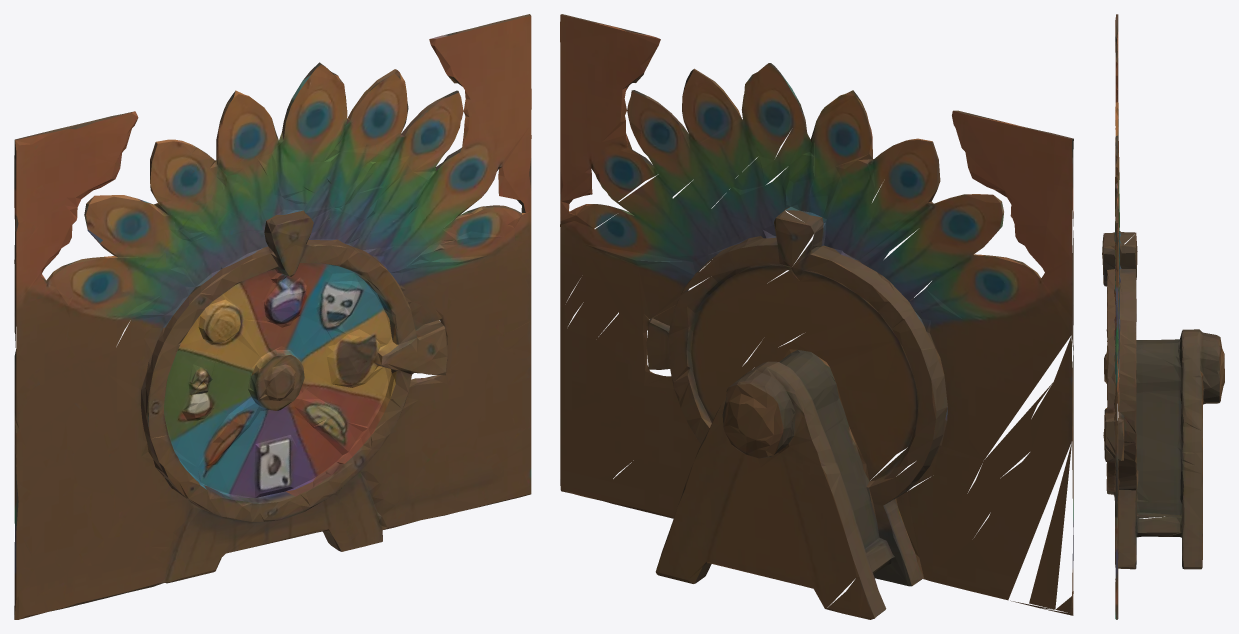
Rendered from game_wheel.glb.
3 views of the same model, side by side, from view 1: azimuth 30°, elevation 25°; view 2: azimuth 150°, elevation 25°; view 3: azimuth 270°, elevation 25° (orthographic). The views are drawn at different scales.
Visible parts, largest first — view 1: geometry_0; view 2: geometry_0; view 3: geometry_0.
Part boxes in pixels (<box>): geometry_0: <box>14,14,531,619</box>; geometry_0: <box>560,14,1073,619</box>; geometry_0: <box>1102,14,1224,619</box>.
Bounding box in the file's own units: 2.2 × 2.01 × 0.5471.
Materials: 1 (1 with a texture image).
